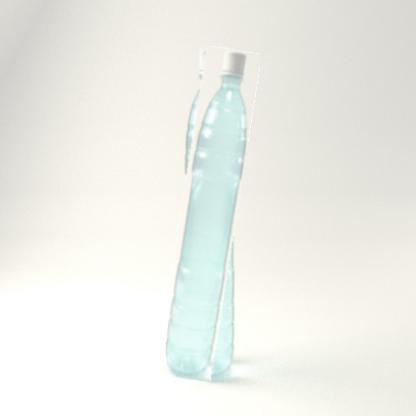plastic-bottles: (169, 48, 250, 382)
